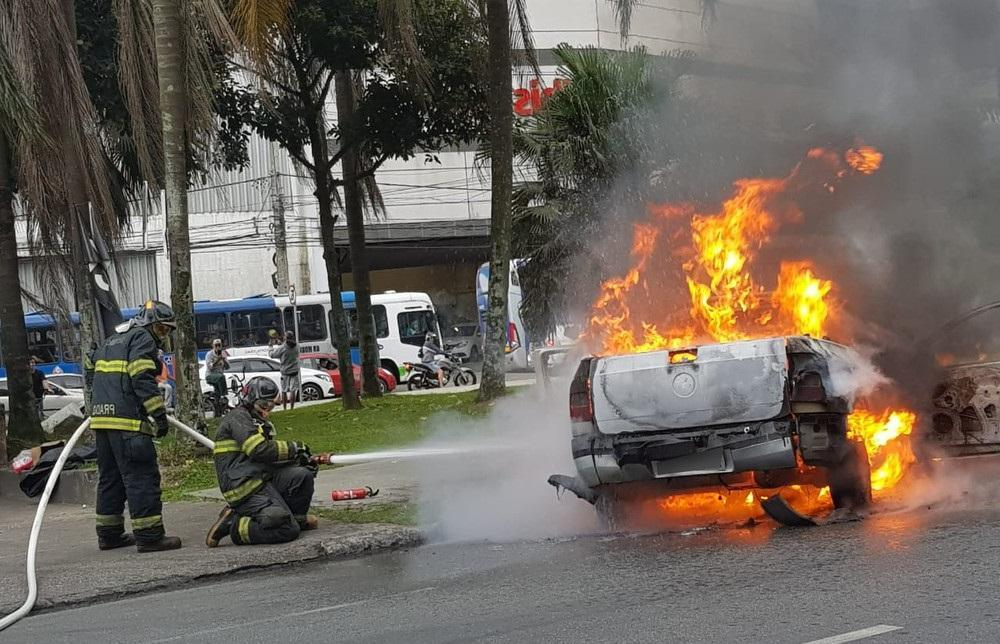Fire: (581, 138, 885, 366), (652, 401, 916, 523)
